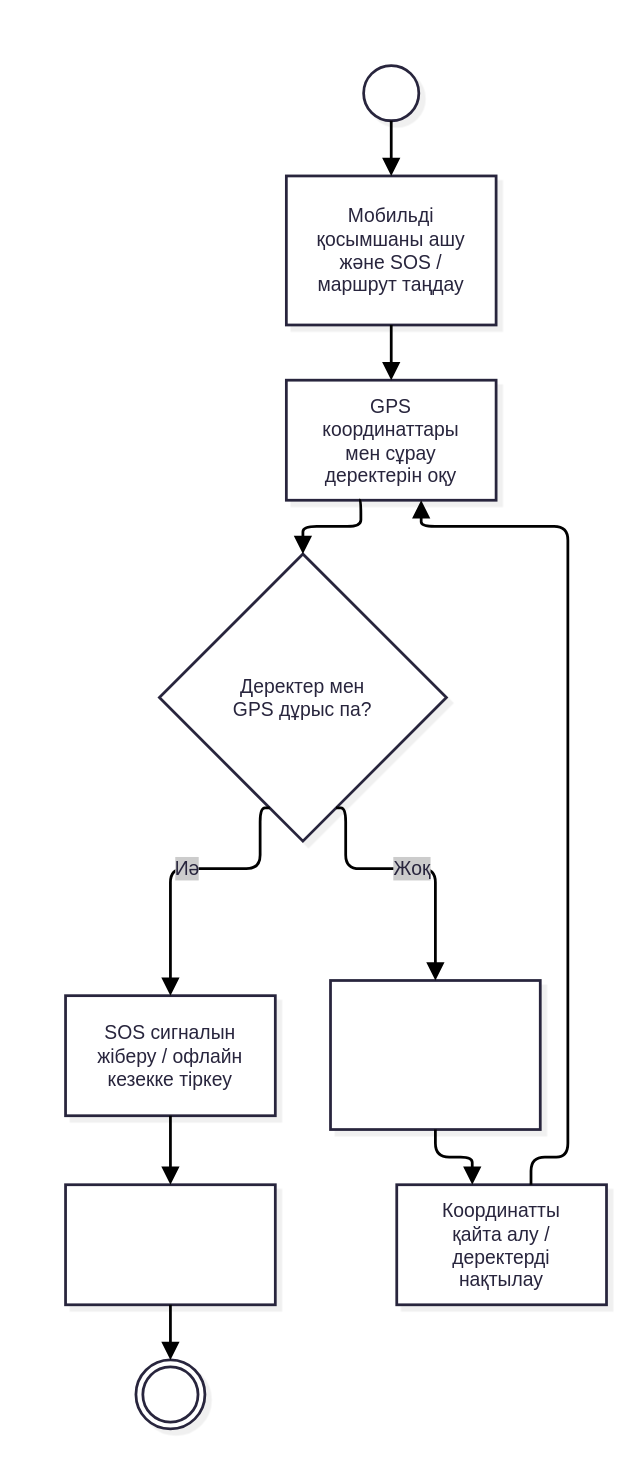
This 636x1459 diagram has some shape labels left out. The centre of each missing label's shape, as x and y in pixels:
"Жіберу / сақтау мәртебесін және картаны көрсету" goes at point 172,1247.
"Қате немесе GPS/сигнал жеткіліксіздігі хабарламасы" goes at point 437,1057.
